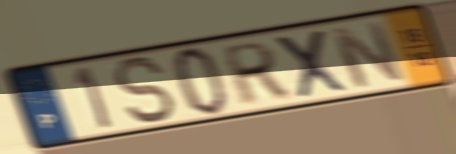0: (171, 45, 231, 118)
1: (71, 64, 115, 132)
N: (326, 19, 409, 91)
R: (221, 38, 292, 108)
S: (110, 55, 180, 126)
X: (270, 26, 353, 101)
